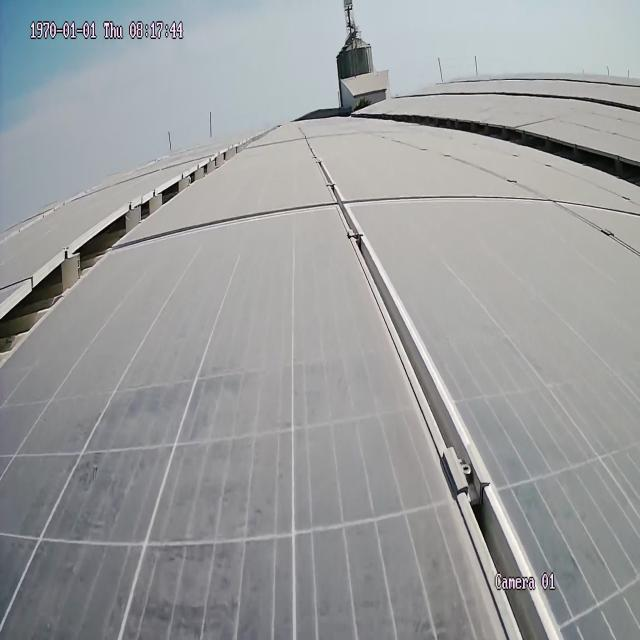interior panel: (303, 138, 547, 628), (153, 187, 631, 250)
outher panel: (1, 135, 262, 378), (378, 111, 640, 190)
